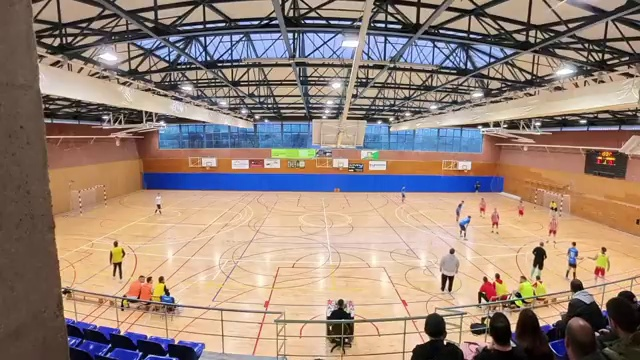players blue shirt: (565, 242, 576, 277), (458, 216, 470, 236), (456, 201, 464, 221), (400, 186, 405, 201)
players red shirt: (490, 208, 499, 233), (548, 220, 556, 236), (481, 198, 486, 215), (519, 202, 523, 216)
